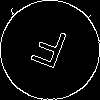F: (25, 25, 70, 78)
